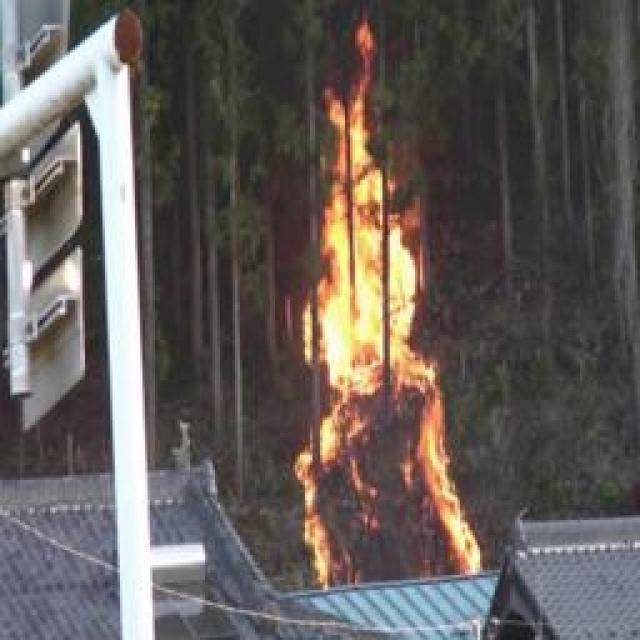Fire: (296, 19, 482, 588)
